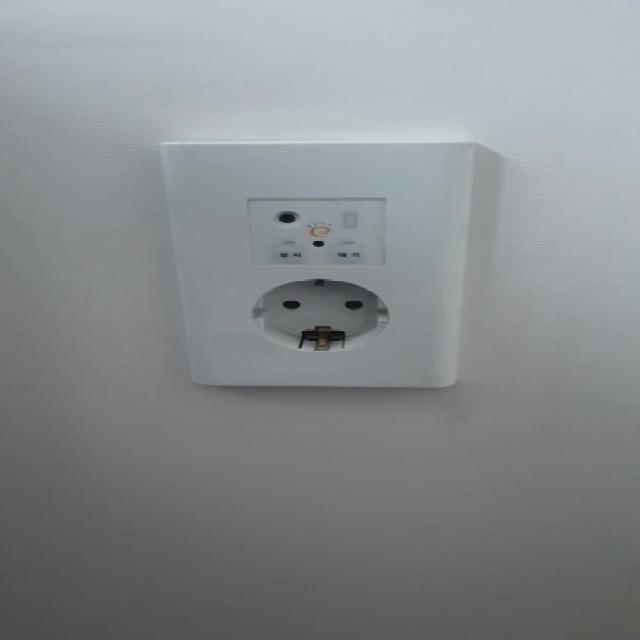typeb: (163, 118, 493, 440)
